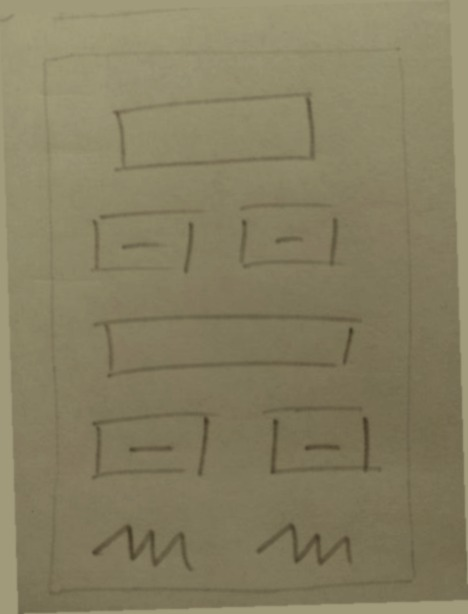button: (251, 393, 390, 486), (79, 406, 225, 487), (78, 203, 215, 285), (227, 191, 353, 278)
text: (80, 509, 201, 579), (248, 510, 366, 575)
text_input: (80, 305, 371, 386), (106, 88, 330, 177)
